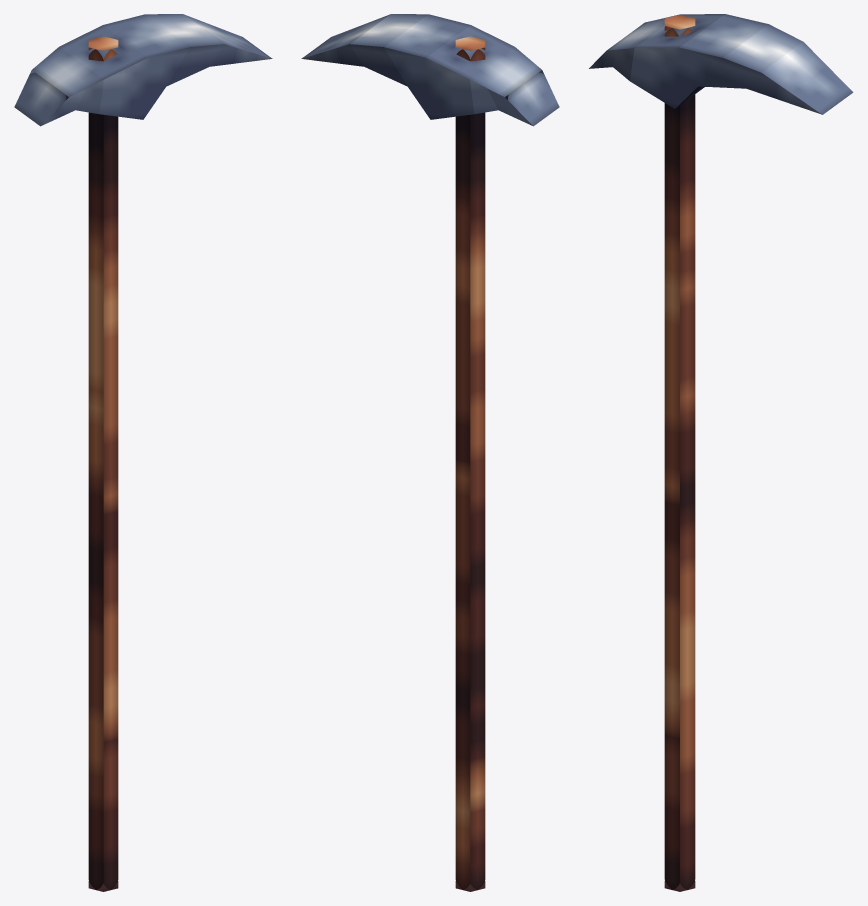
The model's file is hoe.fbx.
3 renders of one model, left to right at view 1: azimuth 30°, elevation 25°; view 2: azimuth 150°, elevation 25°; view 3: azimuth 330°, elevation 25°, orthographic. The views are drawn at different scales.
Parts seen in each view (by area): view 1: stick, head; view 2: stick, head; view 3: stick, head.
Boxes of the visible parts, x1,y1,x2,y2 form: stick: (88,36,118,891); head: (14,14,272,126); stick: (455,36,485,891); head: (301,14,559,126); stick: (664,14,695,891); head: (589,14,853,114).
Size of the model in its own units: 111 by 388 by 37.5.
1 material, 1 textured.
